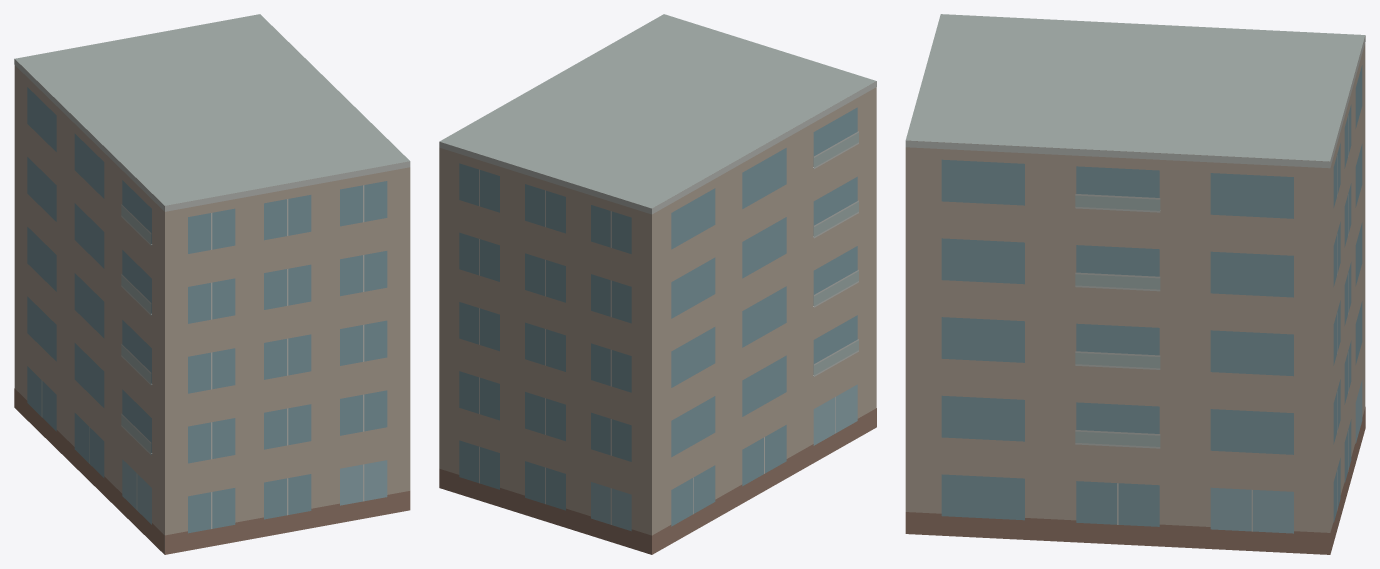
Rendered from survey-upis-32566831.glb.
3 views of the same model, side by side, from view 1: azimuth 30°, elevation 25°; view 2: azimuth 150°, elevation 25°; view 3: azimuth 270°, elevation 25° (orthographic). The views are drawn at different scales.
Parts seen in each view (by area): view 1: survey-upis-32566831.tmp; view 2: survey-upis-32566831.tmp; view 3: survey-upis-32566831.tmp.
Boxes of the visible parts, left/top/right/bottom form: survey-upis-32566831.tmp: left=14, top=14, right=410, bottom=554; survey-upis-32566831.tmp: left=439, top=14, right=876, bottom=554; survey-upis-32566831.tmp: left=905, top=14, right=1365, bottom=554.
Size of the model in its own units: 11.43 by 14.2 by 15.05.
